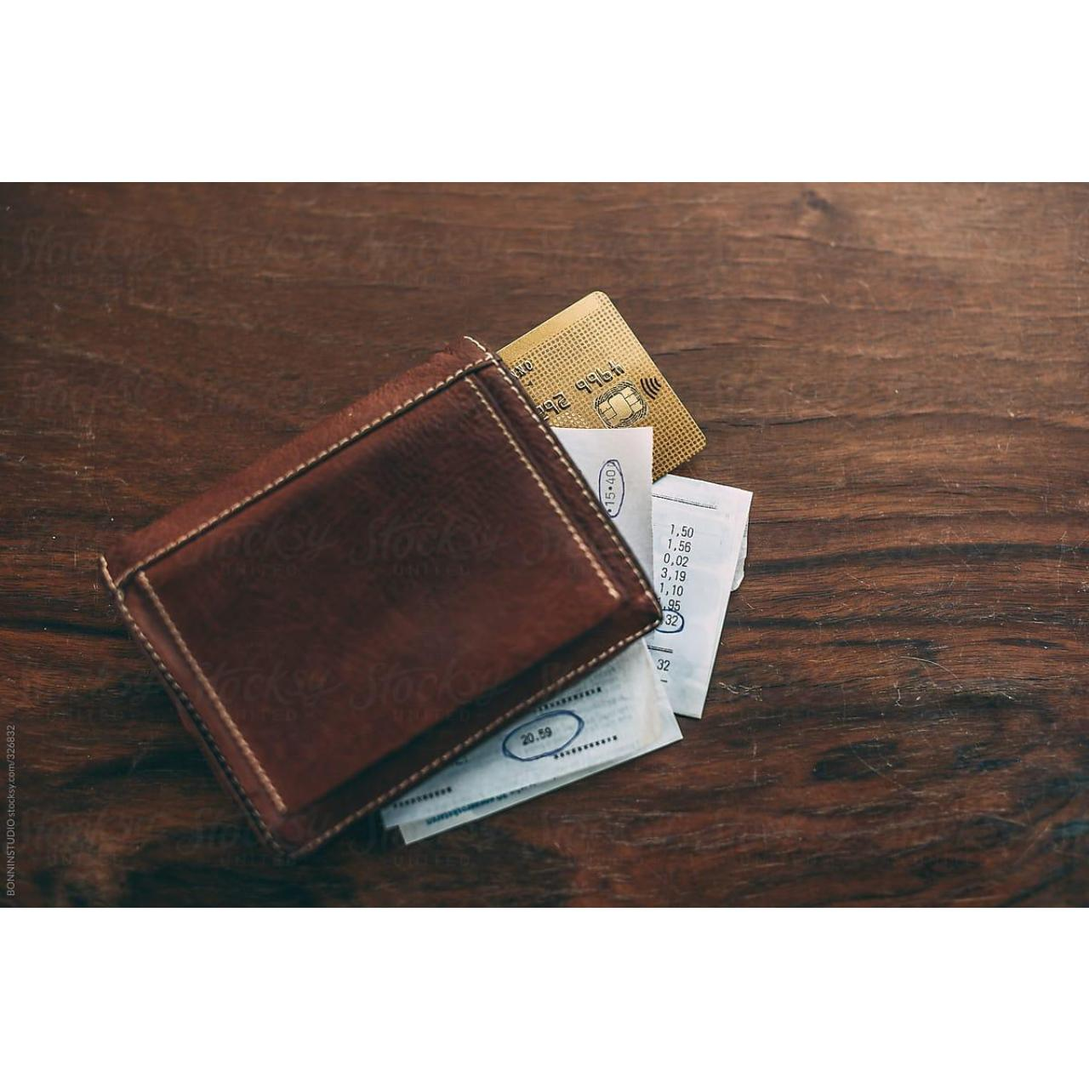wallet: (105, 307, 642, 841)
